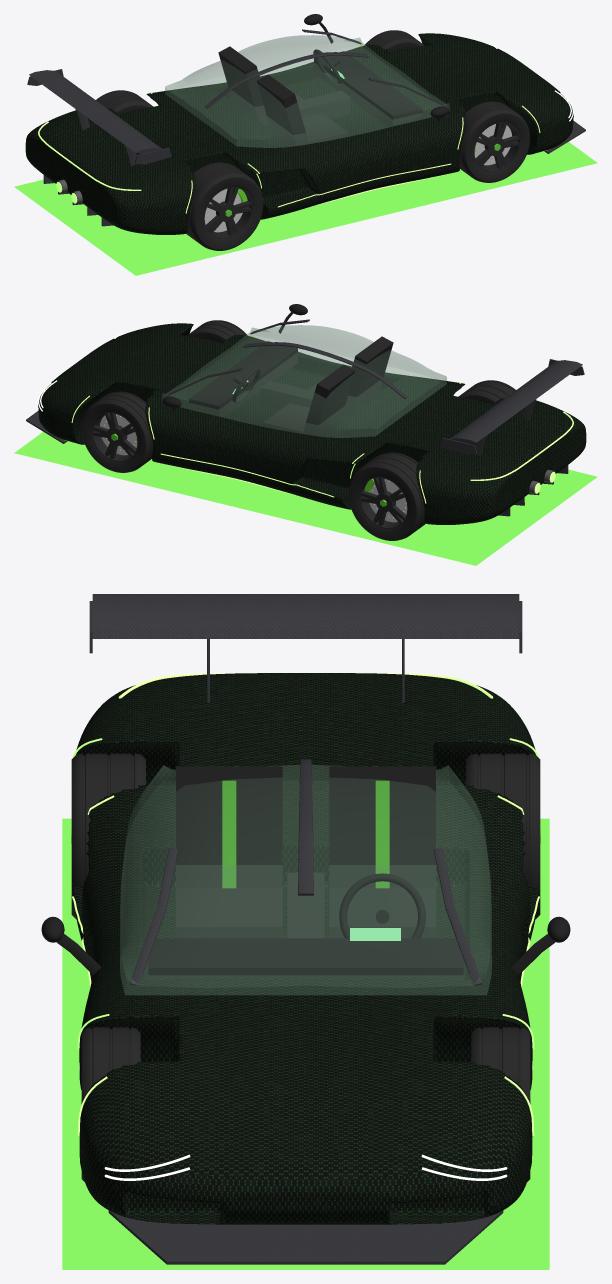
Rendered from venom-hypercar.glb.
The picture shows the model from 3 angles, top to bottom: view 1: azimuth 30°, elevation 25°; view 2: azimuth 150°, elevation 25°; view 3: azimuth 270°, elevation 25°; orthographic projection. The views are drawn at different scales.
Parts seen in each view (by area): view 1: Body, Canopy, Underglow, Interior, Aero_Carbon, Tyre_RR, Tyre_FR, Rim_RR, Rim_FR, Canopy_Frame, Neon_Lines, Tyre_RL (+4 smaller); view 2: Body, Canopy, Underglow, Interior, Aero_Carbon, Tyre_RL, Tyre_FL, Rim_RL, Rim_FL, Canopy_Frame, Neon_Lines, Tyre_RR (+4 smaller); view 3: Body, Canopy, Interior, Aero_Carbon, Underglow, Canopy_Frame, Tyre_RR, Tyre_RL, Interior_Accent, Tyre_FL, Tyre_FR, Mirrors (+2 smaller).
Boxes of the visible parts, x1,y1,x2,y2 form: Body: (25,33,573,234); Canopy: (165,35,449,147); Underglow: (14,141,597,275); Interior: (218,46,422,147); Aero_Carbon: (27,69,585,226); Tyre_RR: (186,162,263,250); Tyre_FR: (459,101,530,182); Rim_RR: (203,186,252,239); Rim_FR: (473,122,520,172); Canopy_Frame: (205,29,446,108); Neon_Lines: (38,32,546,213); Tyre_RL: (96,90,153,113); Body: (38,323,586,524); Canopy: (162,325,446,437); Underglow: (14,431,597,565); Interior: (189,336,393,437); Aero_Carbon: (26,359,584,516); Tyre_RL: (348,452,425,540); Tyre_FL: (81,391,152,472); Rim_RL: (359,476,408,529); Rim_FL: (91,412,138,462); Canopy_Frame: (165,319,406,398); Neon_Lines: (65,322,573,503); Tyre_RR: (458,380,515,403); Body: (72,673,538,1224); Canopy: (120,765,491,994); Interior: (148,766,463,980); Aero_Carbon: (89,594,522,1264); Underglow: (62,818,549,1269); Canopy_Frame: (130,759,481,986); Tyre_RR: (71,753,145,919); Tyre_RL: (466,753,540,919); Interior_Accent: (222,780,389,888); Tyre_FL: (471,1027,530,1181); Tyre_FR: (81,1027,140,1181); Mirrors: (41,916,570,974).
Size of the model in its own units: 4.82 by 1.12 by 2.28.
Materials: 16 (2 with a texture image).
